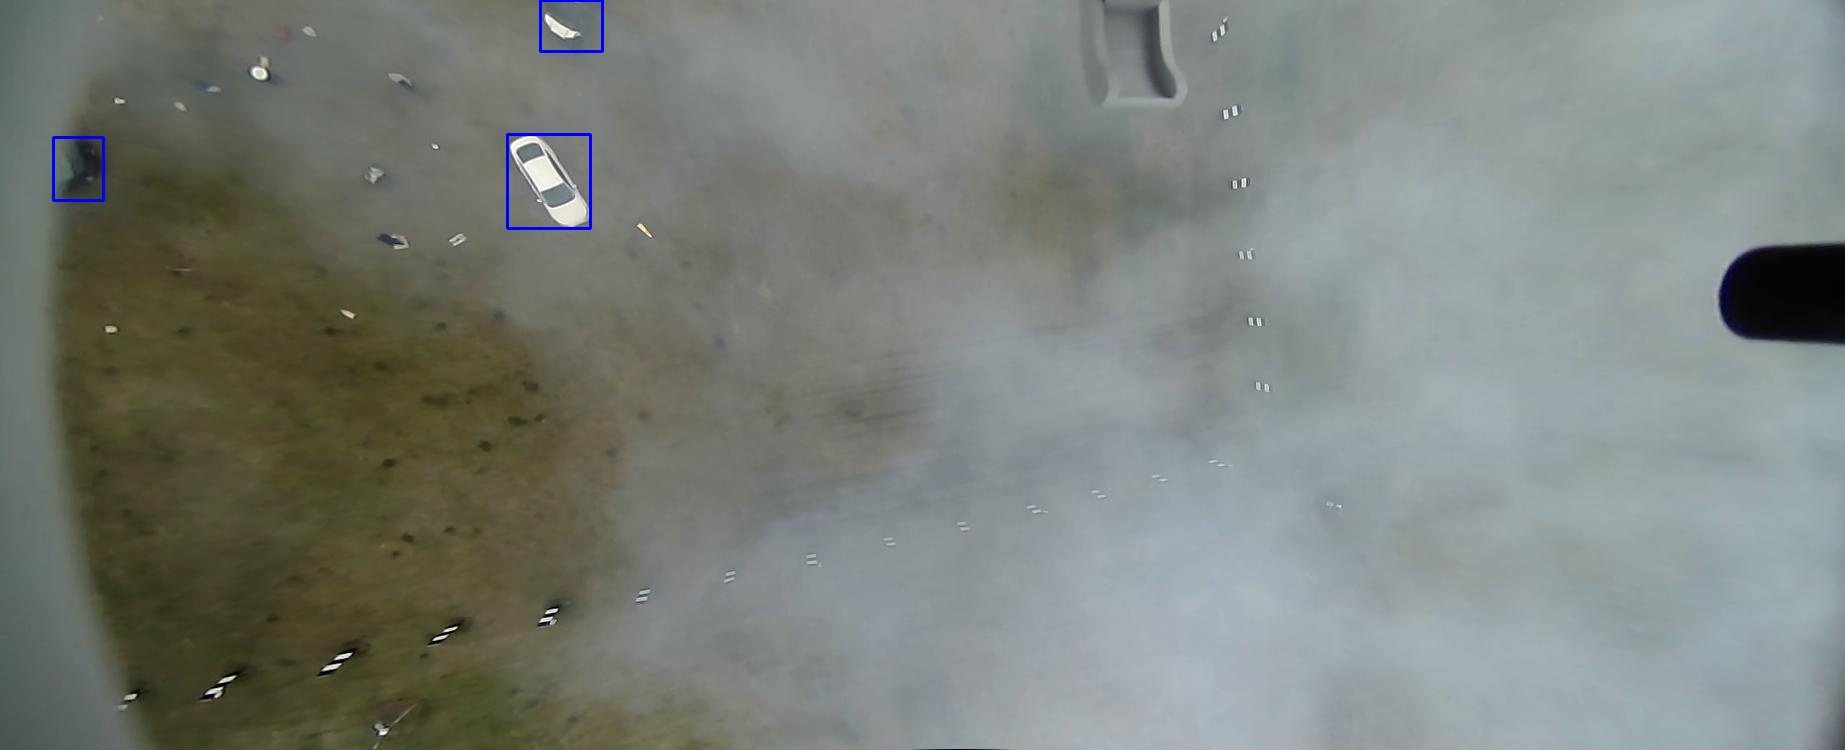vehicle: (134, 507, 228, 590), (136, 53, 200, 102), (0, 540, 51, 602)
